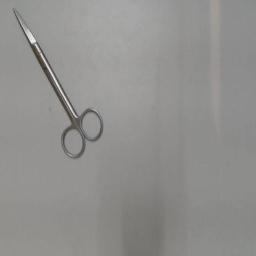Curved Mayo Scissors: (10, 4, 106, 162)
